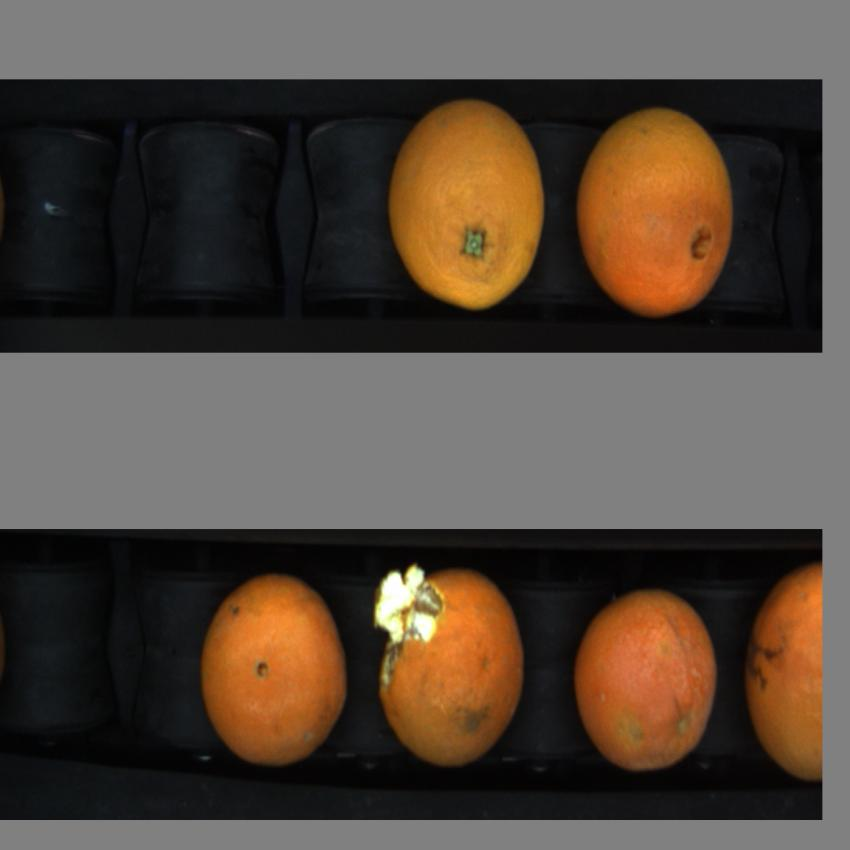Buen estado: (385, 94, 551, 313), (574, 112, 742, 323), (571, 586, 722, 782), (197, 578, 350, 768), (740, 562, 824, 785)
Mal estado: (370, 562, 528, 763)
